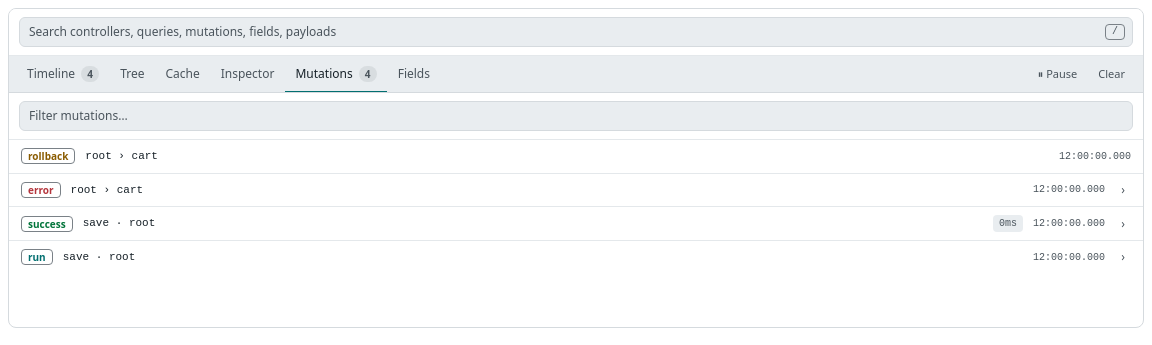
Test: Mutations log › filters by kind, path, name, vars, result and error
Type "draft" into the search field.
click(576, 116); type("draft")  # box [19, 101, 1133, 131]
Wait 150 ms
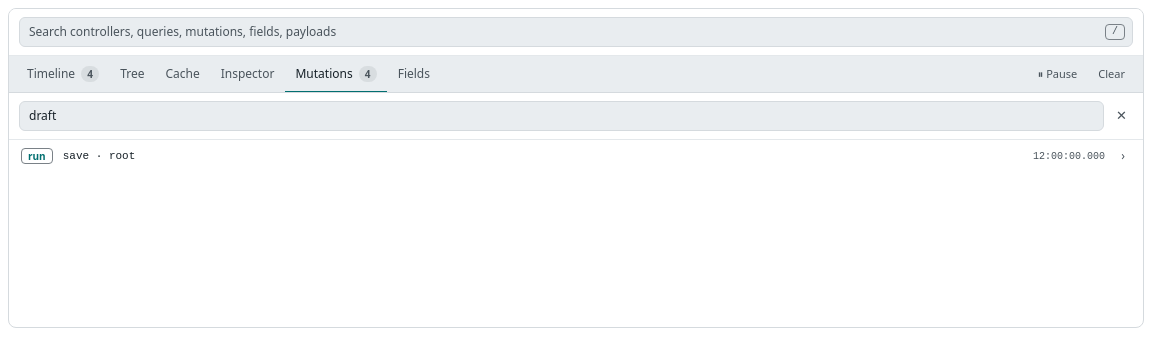
Replace the text in the search field with "srv-9" at (562, 116), box [19, 101, 1104, 131]
Wait 150 ms
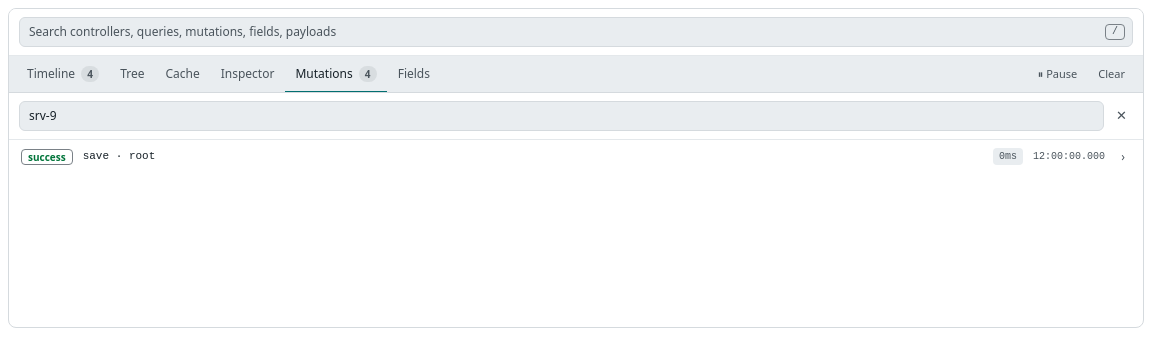
Replace the text in the search field with "stock" at (562, 116), box [19, 101, 1104, 131]
Wait 150 ms
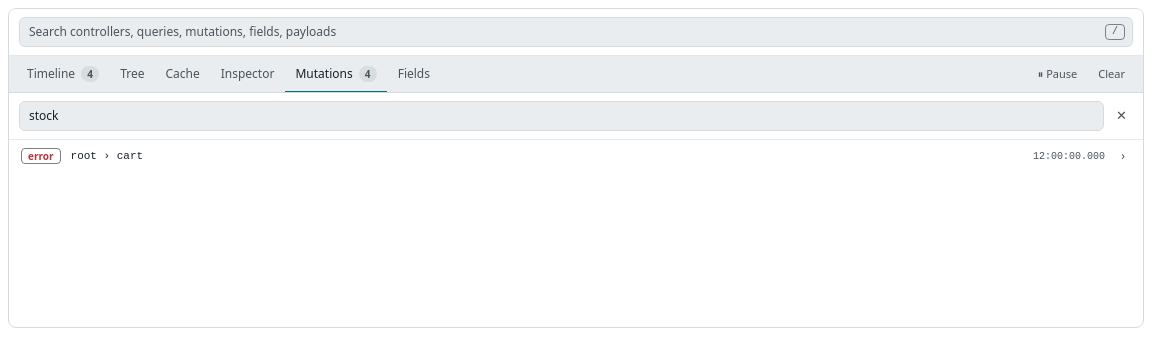
Replace the text in the search field with "cart" at (562, 116), box [19, 101, 1104, 131]
Wait 150 ms
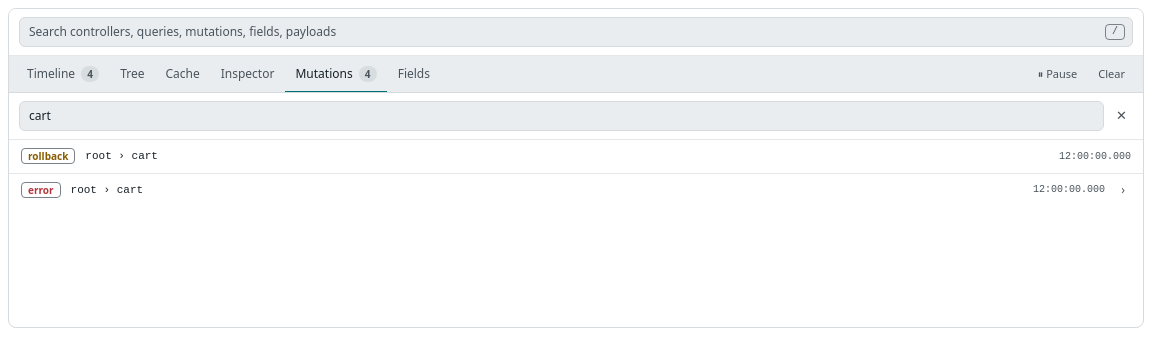
Replace the text in the search field with "nope" at (562, 116), box [19, 101, 1104, 131]
Wait 150 ms
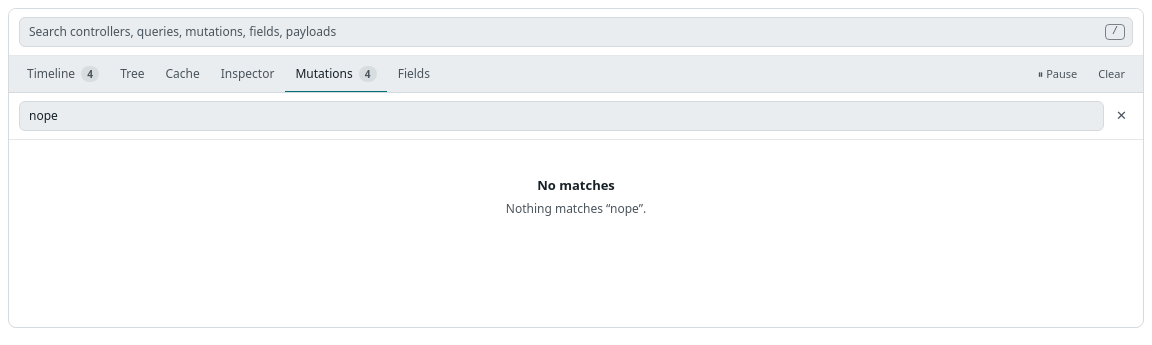
Expected: the panel shows "Nothing matches “nope”.", [506, 200, 646, 216]
